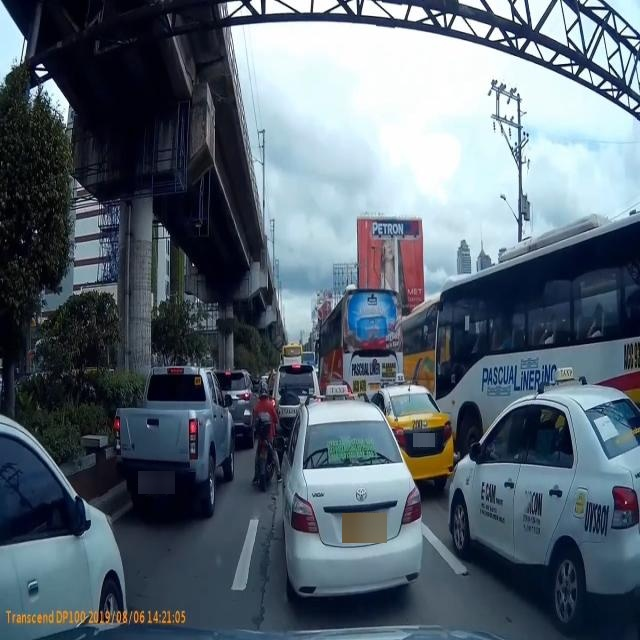bus: (434, 221, 640, 478), (309, 295, 408, 405)
car: (448, 389, 640, 611), (283, 399, 424, 603), (128, 356, 234, 522), (367, 383, 455, 487), (200, 363, 254, 452)
motorcycle: (252, 372, 284, 495)
